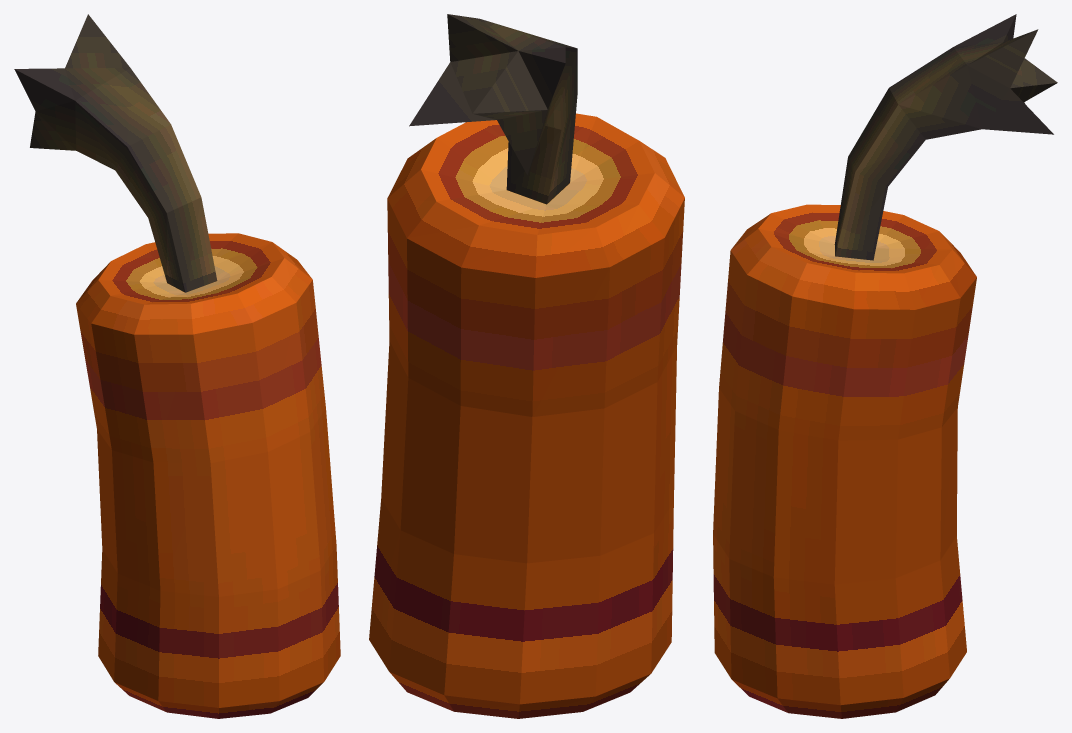
File: Dynamite.obj
The picture shows the model from 3 angles, left to right: view 1: azimuth 30°, elevation 25°; view 2: azimuth 150°, elevation 25°; view 3: azimuth 270°, elevation 25°; orthographic projection. The views are drawn at different scales.
Parts seen in each view (by area): view 1: Inst3D_RefRep.281; view 2: Inst3D_RefRep.281; view 3: Inst3D_RefRep.281.
Boxes of the visible parts, x1,y1,x2,y2 form: Inst3D_RefRep.281: [14, 14, 340, 718]; Inst3D_RefRep.281: [369, 14, 684, 718]; Inst3D_RefRep.281: [713, 14, 1057, 718].
Bounding box in the file's own units: 1.87 × 4.73 × 2.36.
